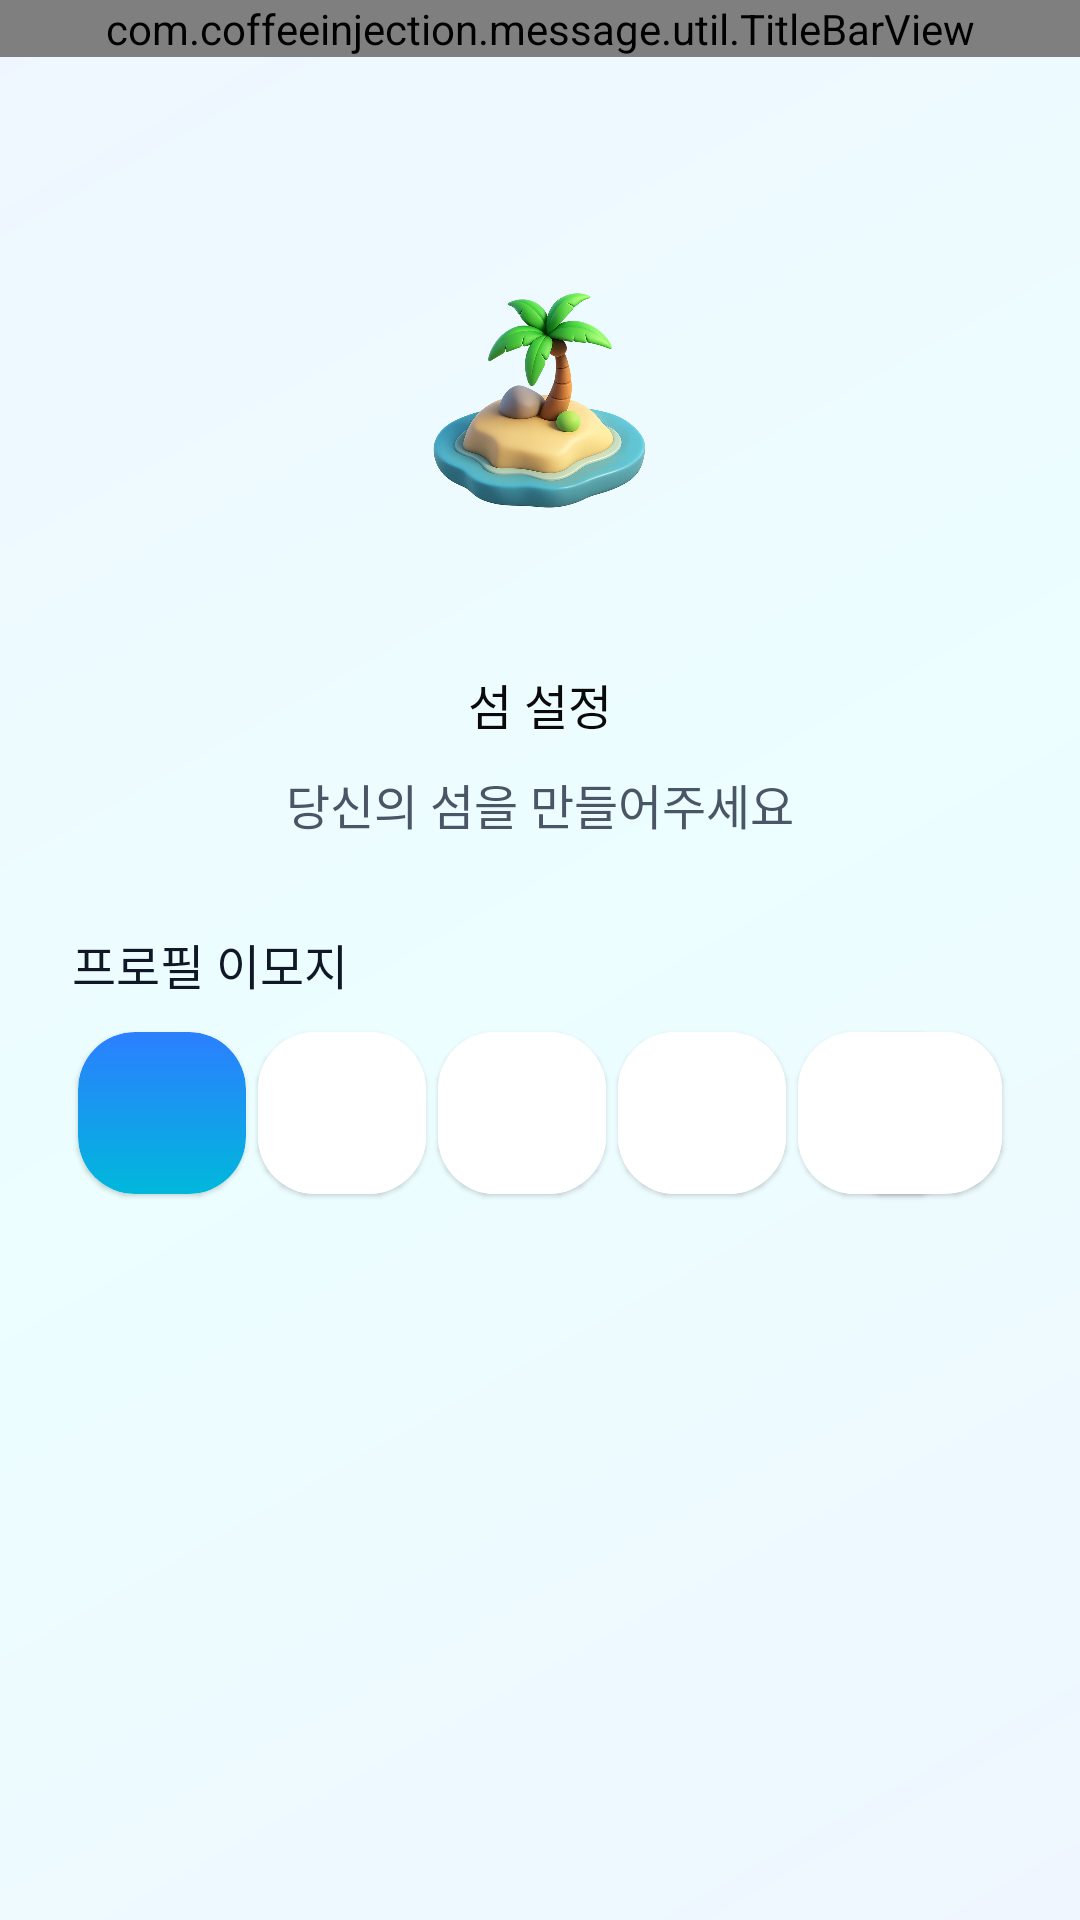

Locate icon controls on the screen. Image size 1080×1920, boxes as bbox=(x1, y1, x2, y2).
island daytime: bbox=(433, 293, 645, 508)
